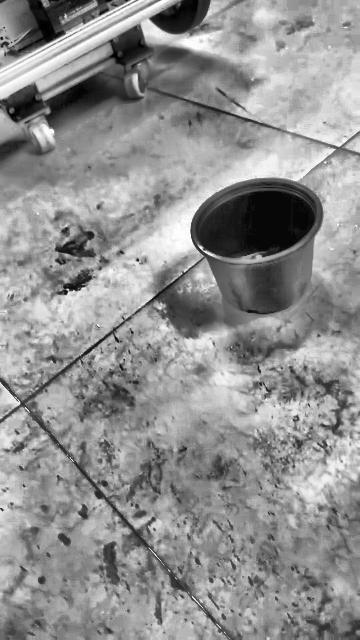pot: (191, 179, 323, 313)
